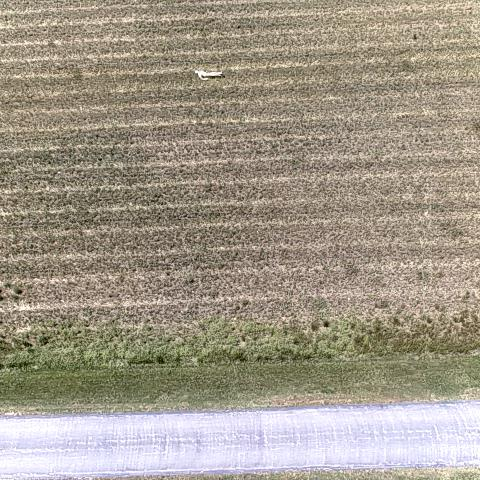person: (192, 66, 225, 81)
